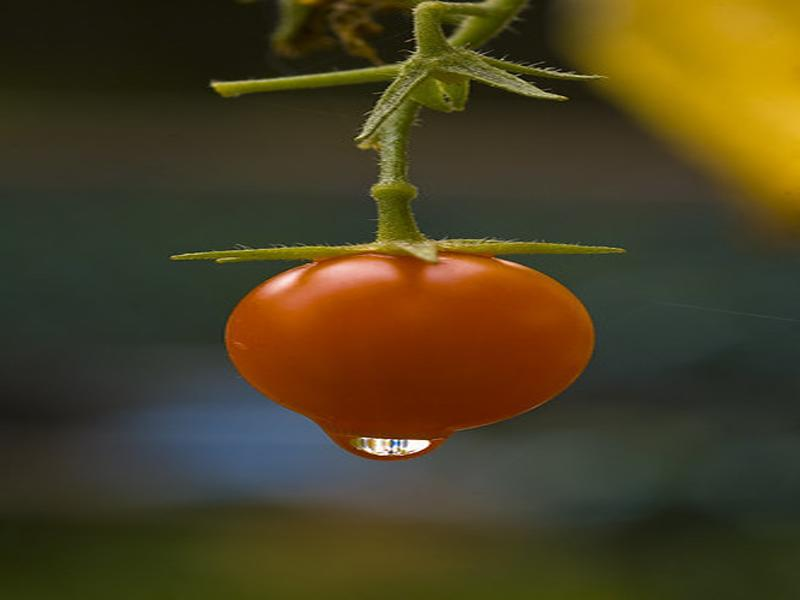Tomato: (221, 250, 592, 432)
